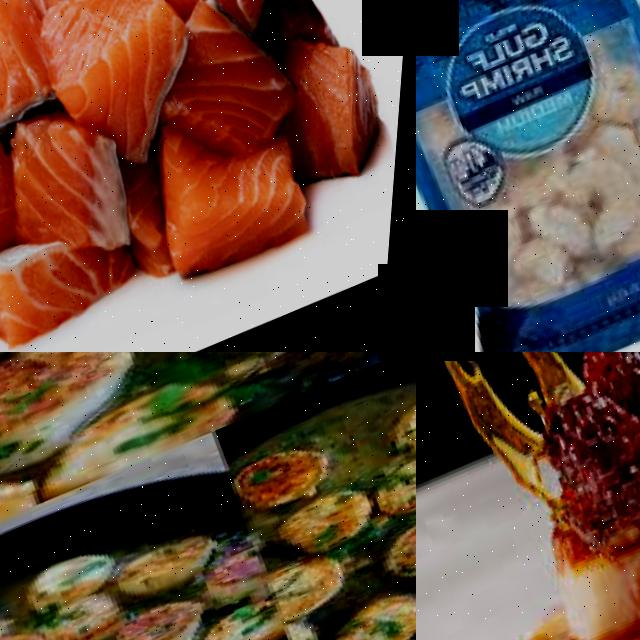salmon: (145, 116, 333, 284), (0, 94, 155, 266), (51, 0, 220, 147), (172, 0, 312, 158), (276, 20, 410, 180), (0, 0, 83, 149)
sea scallops: (0, 352, 156, 489), (23, 534, 135, 618), (118, 523, 229, 600), (105, 585, 225, 640), (389, 371, 416, 456)
